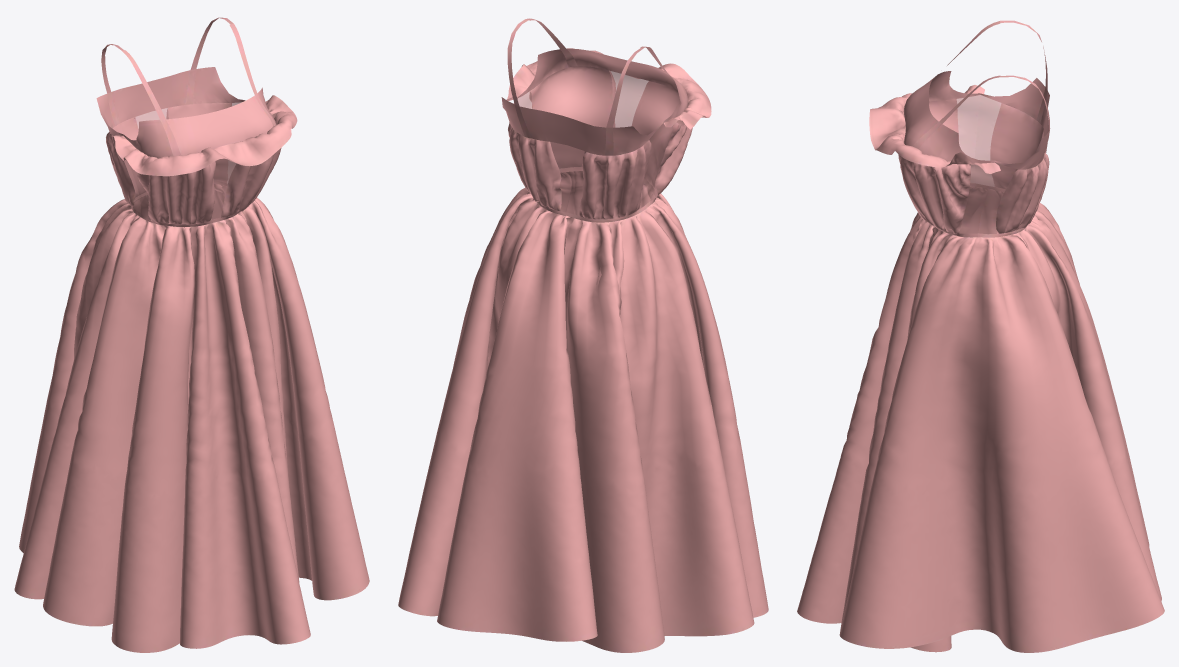
The model's file is sanju_dress.glb.
The picture shows the model from 3 angles, left to right: view 1: azimuth 30°, elevation 25°; view 2: azimuth 150°, elevation 25°; view 3: azimuth 270°, elevation 25°; orthographic projection. The views are drawn at different scales.
Visible parts, largest first — view 1: Garment.001; view 2: Garment.001; view 3: Garment.001.
Part boxes in pixels (left/top/right/bottom): Garment.001: left=14, top=17, right=369, bottom=652; Garment.001: left=398, top=18, right=768, bottom=652; Garment.001: left=797, top=20, right=1164, bottom=652.
Size of the model in its own units: 0.6042 by 1.12 by 0.6449.
Materials: 1 (1 with a texture image).
